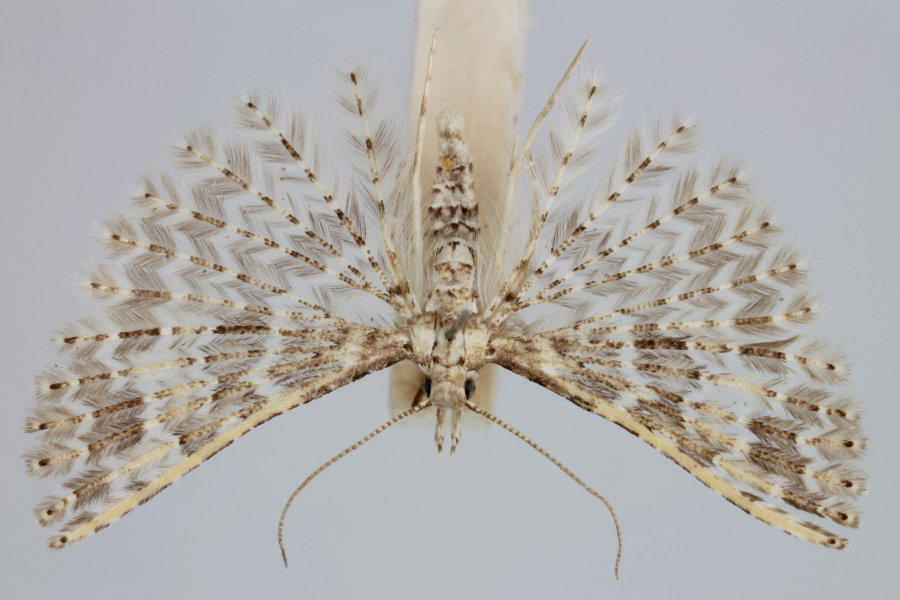Alucitidae: (19, 1, 868, 581)
moth: (21, 3, 870, 583)
